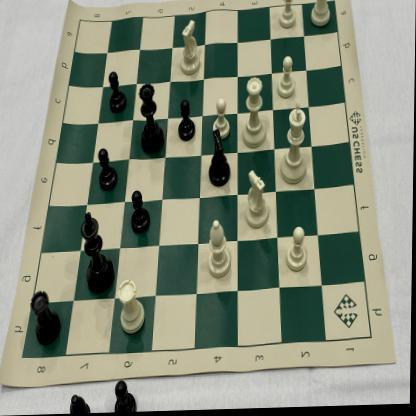black-king: (79, 210, 116, 300)
black-knight: (208, 129, 233, 188)
black-pawn: (129, 189, 154, 235), (97, 147, 120, 193), (176, 99, 199, 144), (107, 70, 128, 116)
black-queen: (138, 84, 165, 158)
black-rook: (31, 289, 64, 348)
white-bishop: (207, 219, 234, 282)
white-king: (279, 103, 311, 187)
white-knight: (244, 169, 270, 232)
white-pawn: (285, 226, 311, 276), (212, 98, 233, 143), (277, 55, 297, 101), (277, 0, 299, 34)
white-queen: (241, 75, 271, 152)
white-rook: (117, 275, 148, 339), (308, 0, 334, 32)
